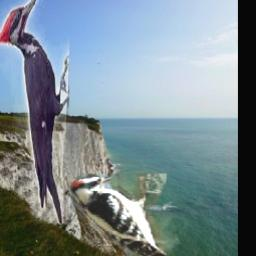Woodpecker: (0, 0, 69, 223), (70, 175, 167, 256)
